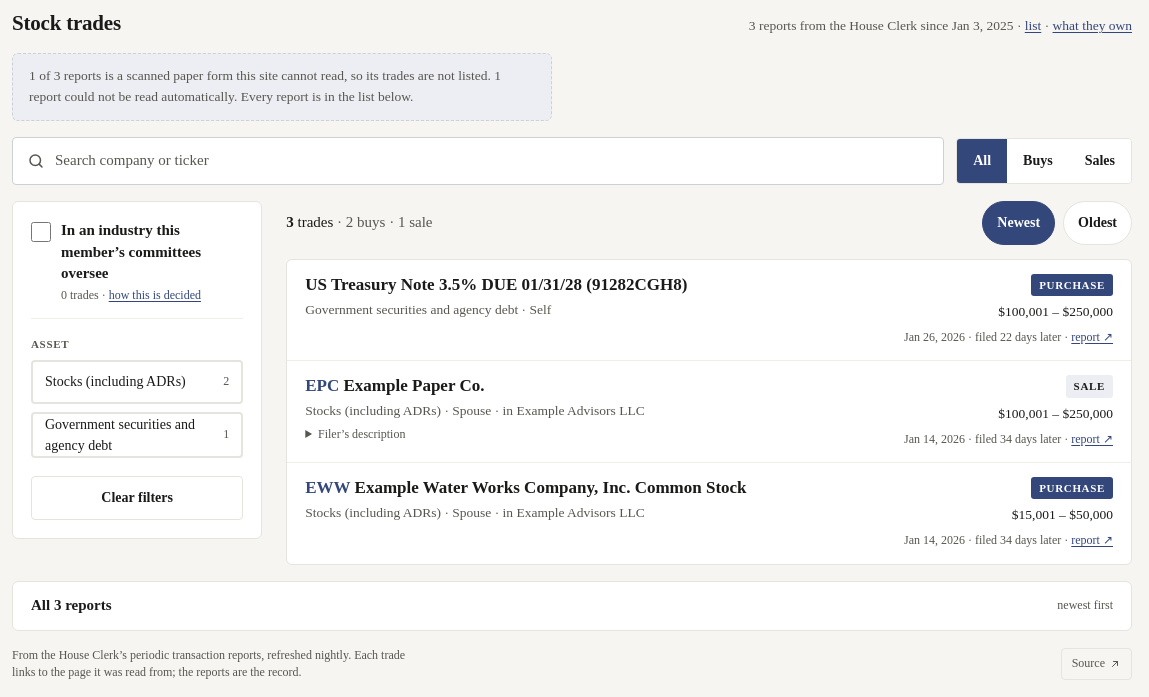
Test: stock trades: committee industries (ADR 0032) › offers the filter at zero, so an empty result is visible rather than hidden
This screenshot has width=1149, height=697.
expect the text "0 trades · how this is decided" is shown: met, box [61,288,201,302]
Click the checkbox labelled "committees oversee". click: (41, 232)
box: [31,222,51,242]
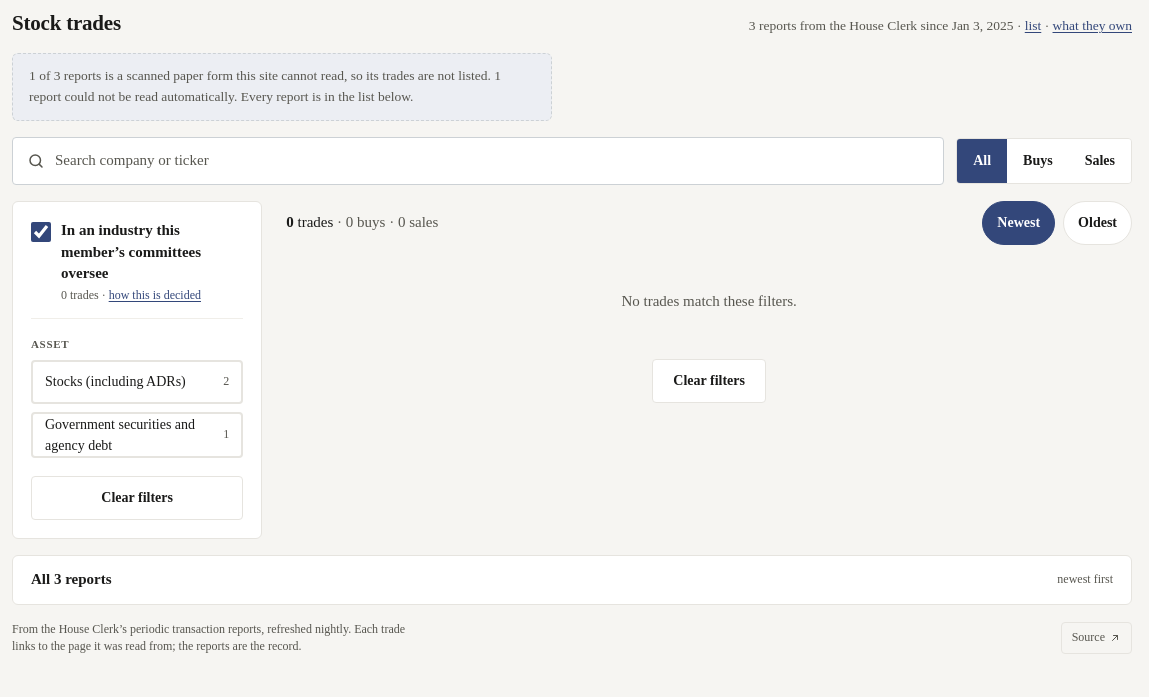
expect the text "No trades match these filters." is shown: met, box [622,293,797,309]
